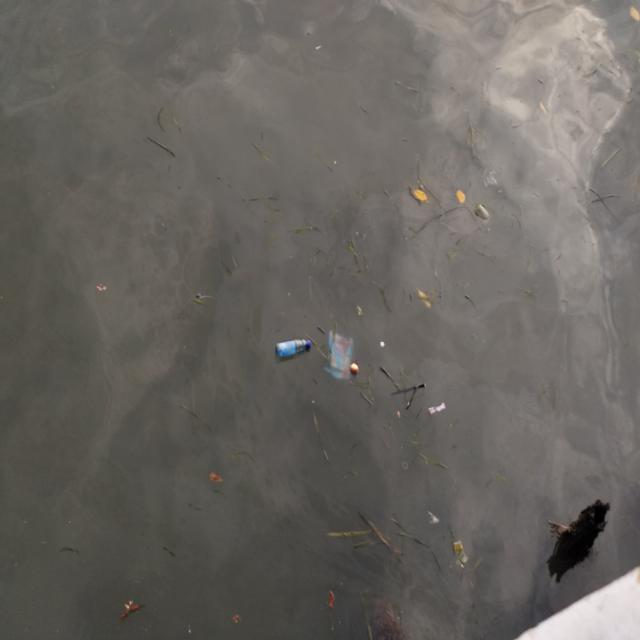Botol Plastik: (274, 338, 313, 361)
Bungkus Makanan: (322, 325, 359, 381)
